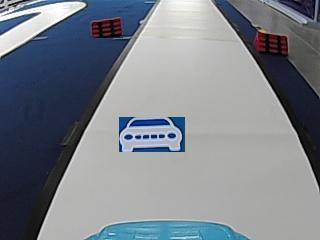bomb: (252, 30, 289, 54)
